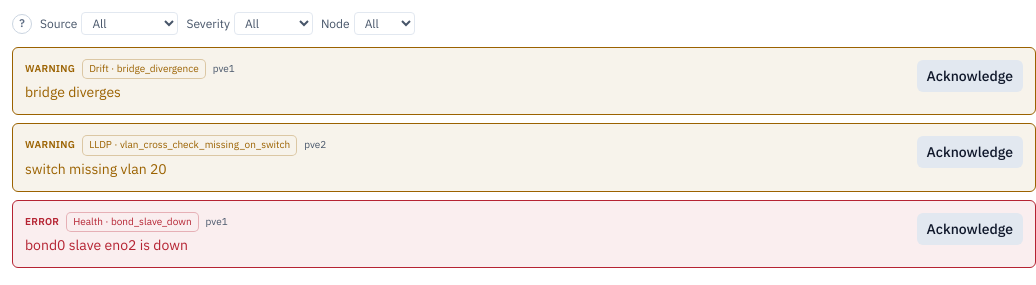
Scenario: FindingsStreamPanel › filters by severity
The image size is (1036, 285).
Expected: the text "bridge diverges" is shown, 25,83 -> 121,101
Select "Error" in the dropdown named "Filter by severity": (273,24) 234,12 -> 313,35
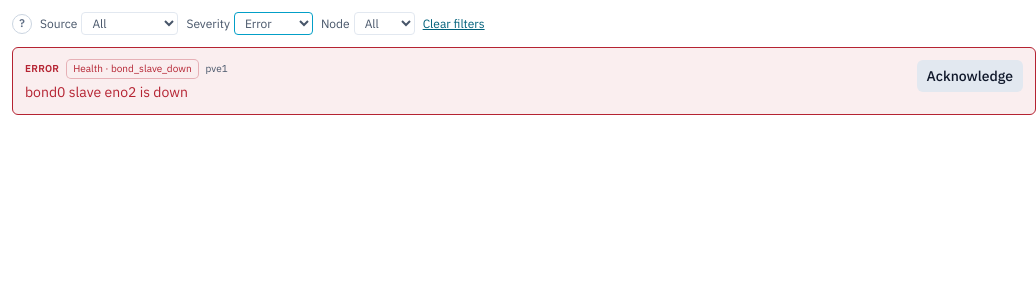
Expected: the text "bond0 slave eno2 is down" is shown, 25,83 -> 188,101
Now the text "bridge diverges" is gone
